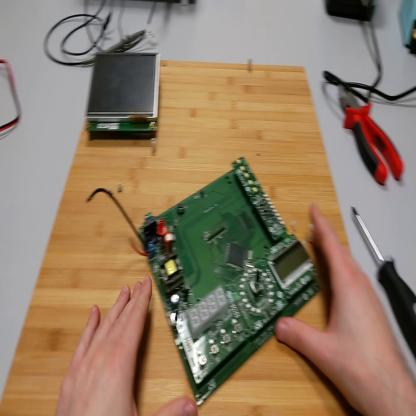hand: (276, 204, 408, 408), (56, 282, 198, 414)
low voltage board: (92, 157, 328, 407)
oscilloscope probe tip: (80, 28, 149, 63)
pliers: (341, 85, 405, 186)
screwdriver-: (352, 209, 416, 359)
working area: (2, 61, 353, 416)
